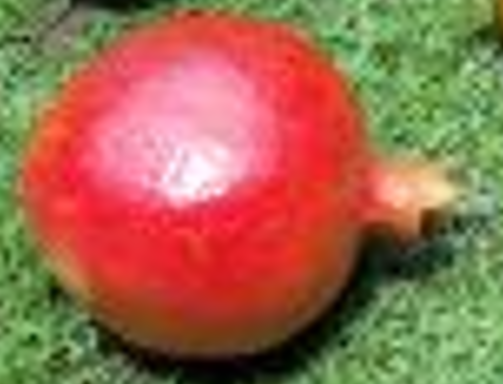pomegranate_A: (12, 9, 466, 362)
